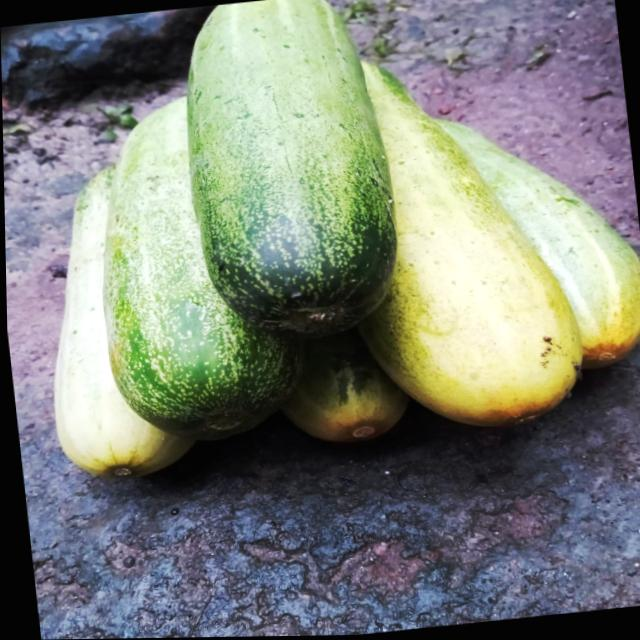Fresh-Cucumber: (15, 28, 640, 486), (167, 0, 408, 341)
